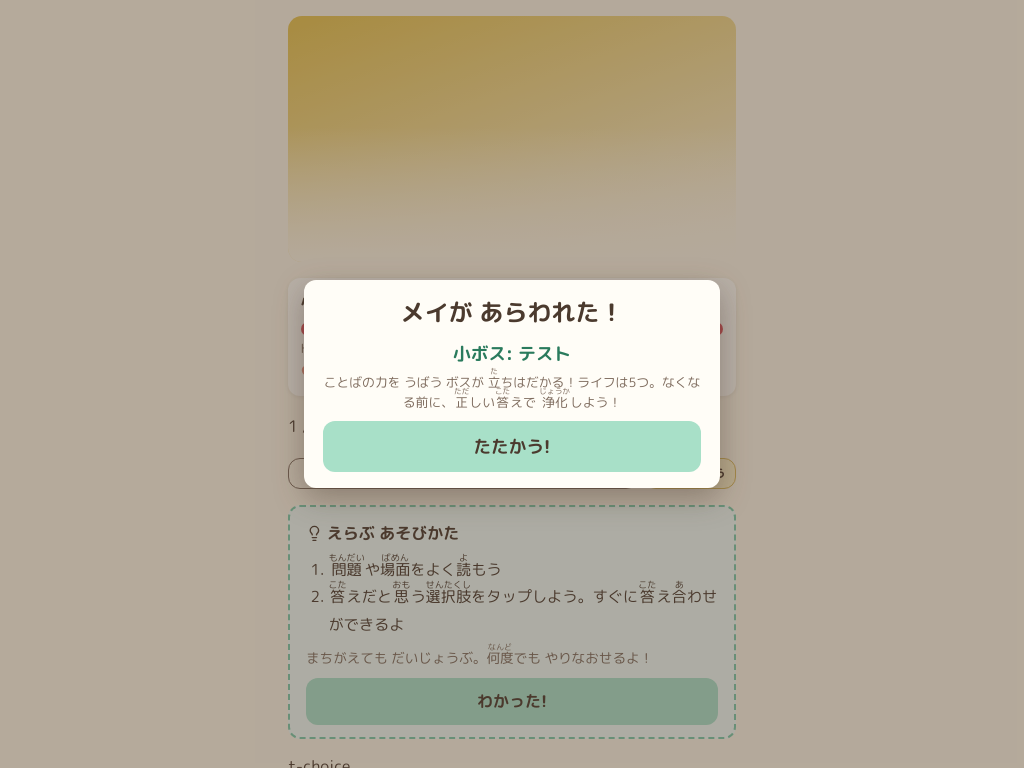
QuizPlayer: 続けて届いた同じ問題の解答は、ボスのHPを二重に減らさない › 小ボス戦に入ると、説明のポップアップの先頭に「○○が あらわれた!」が出て、「たたかう!」で閉じると、そのまま出題に入る(別の画面は挟まない)
Check: the message with class "boss-appear-message" reads "メイが あらわれた！", box x1=401 y1=295 x2=623 y2=329
Check: the element with class "boss-panel" is shown, box x1=288 y1=278 x2=736 y2=396
Click the button "たたかう!" at (512, 446), box x1=323 y1=421 x2=701 y2=472
(page scrolled)
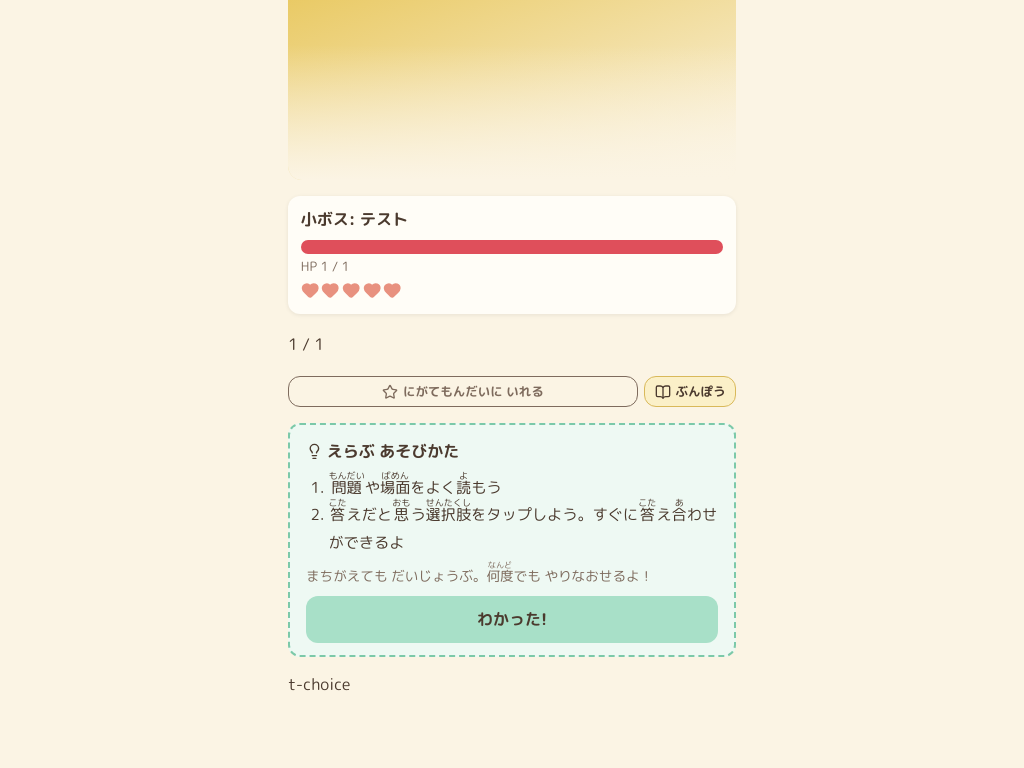
Check: the text "t-choice" is shown, box x1=288 y1=673 x2=350 y2=695
Check: the message with class "boss-appear-message" is gone
